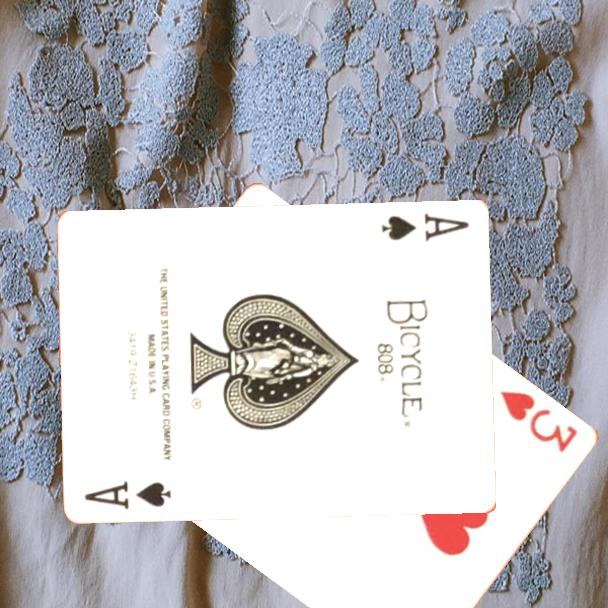h03: (496, 387, 581, 456)
s01: (378, 209, 472, 244), (81, 477, 174, 512)
